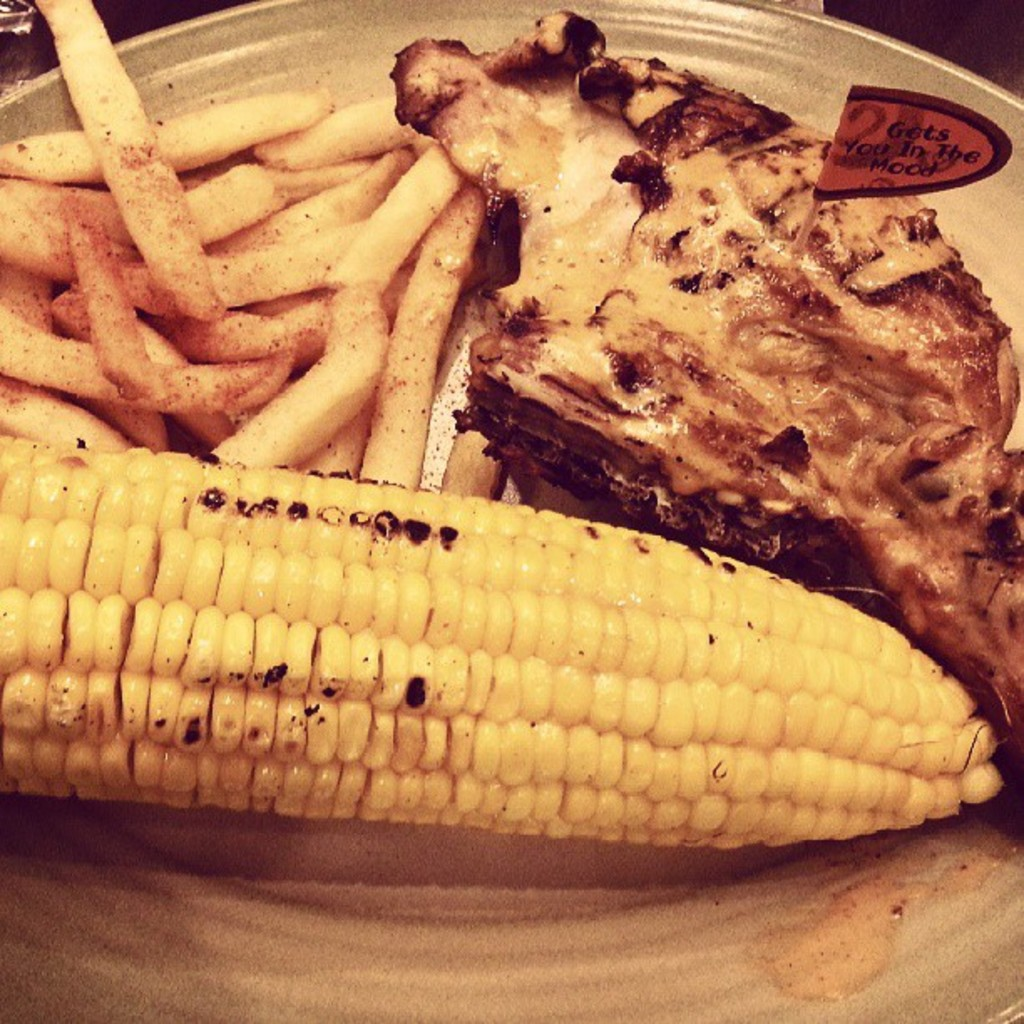French fries: (0, 18, 582, 523)
